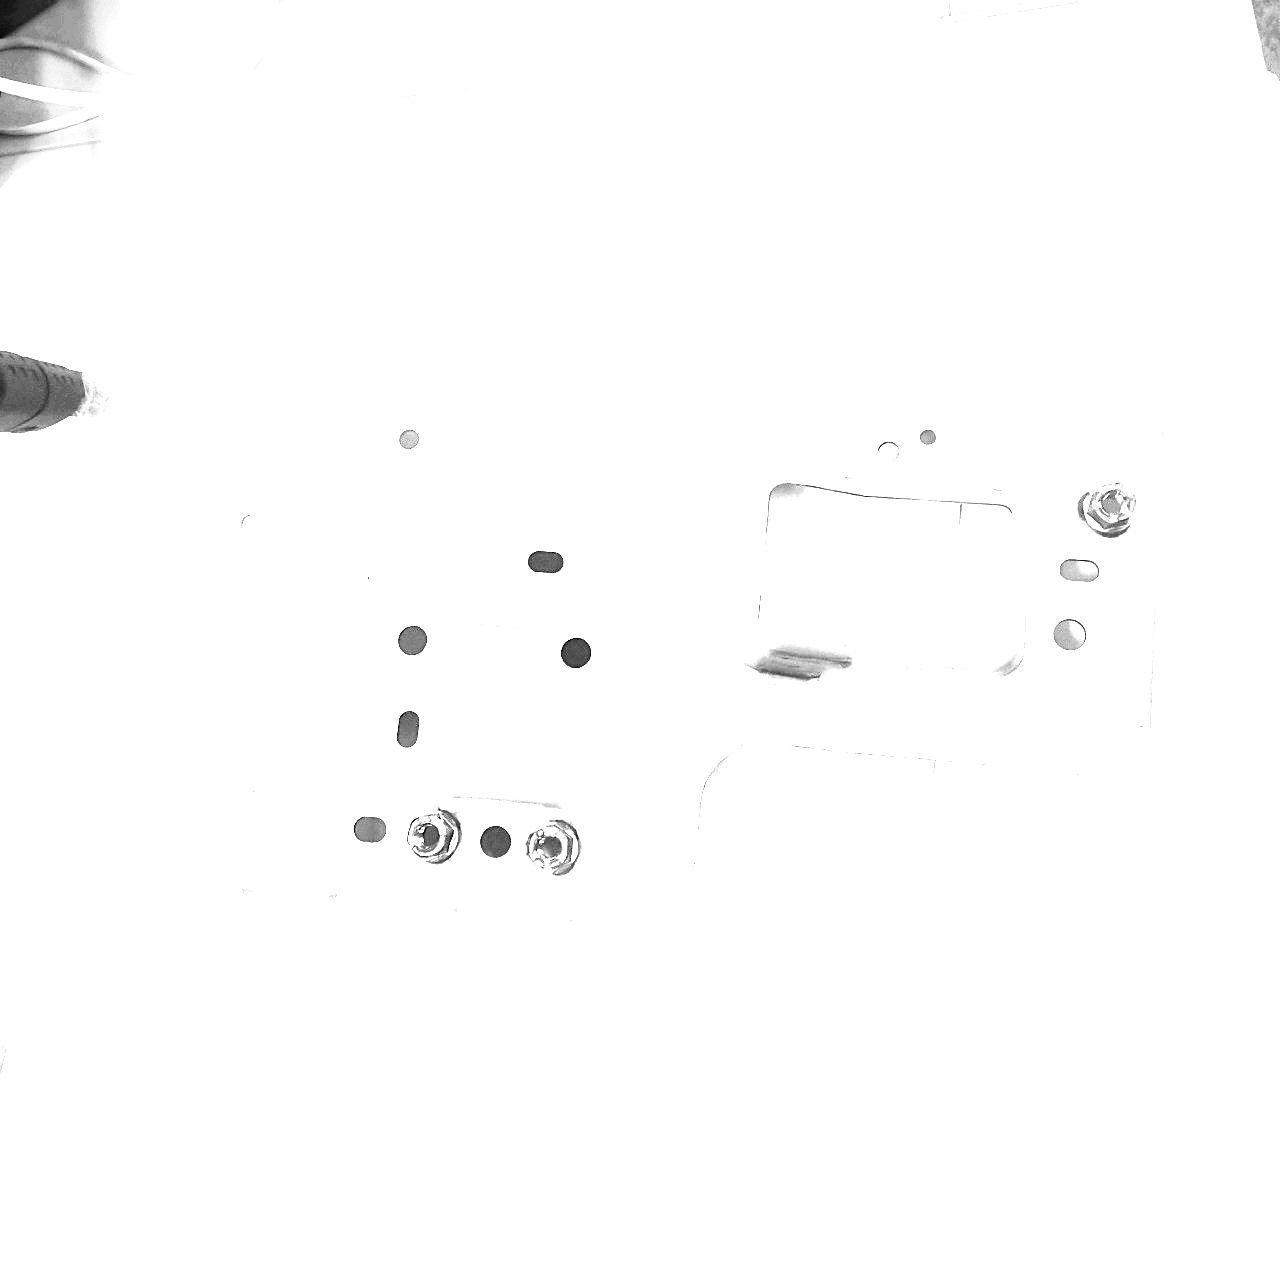dog: (1074, 476, 1141, 542), (402, 804, 468, 869), (520, 816, 584, 880)
